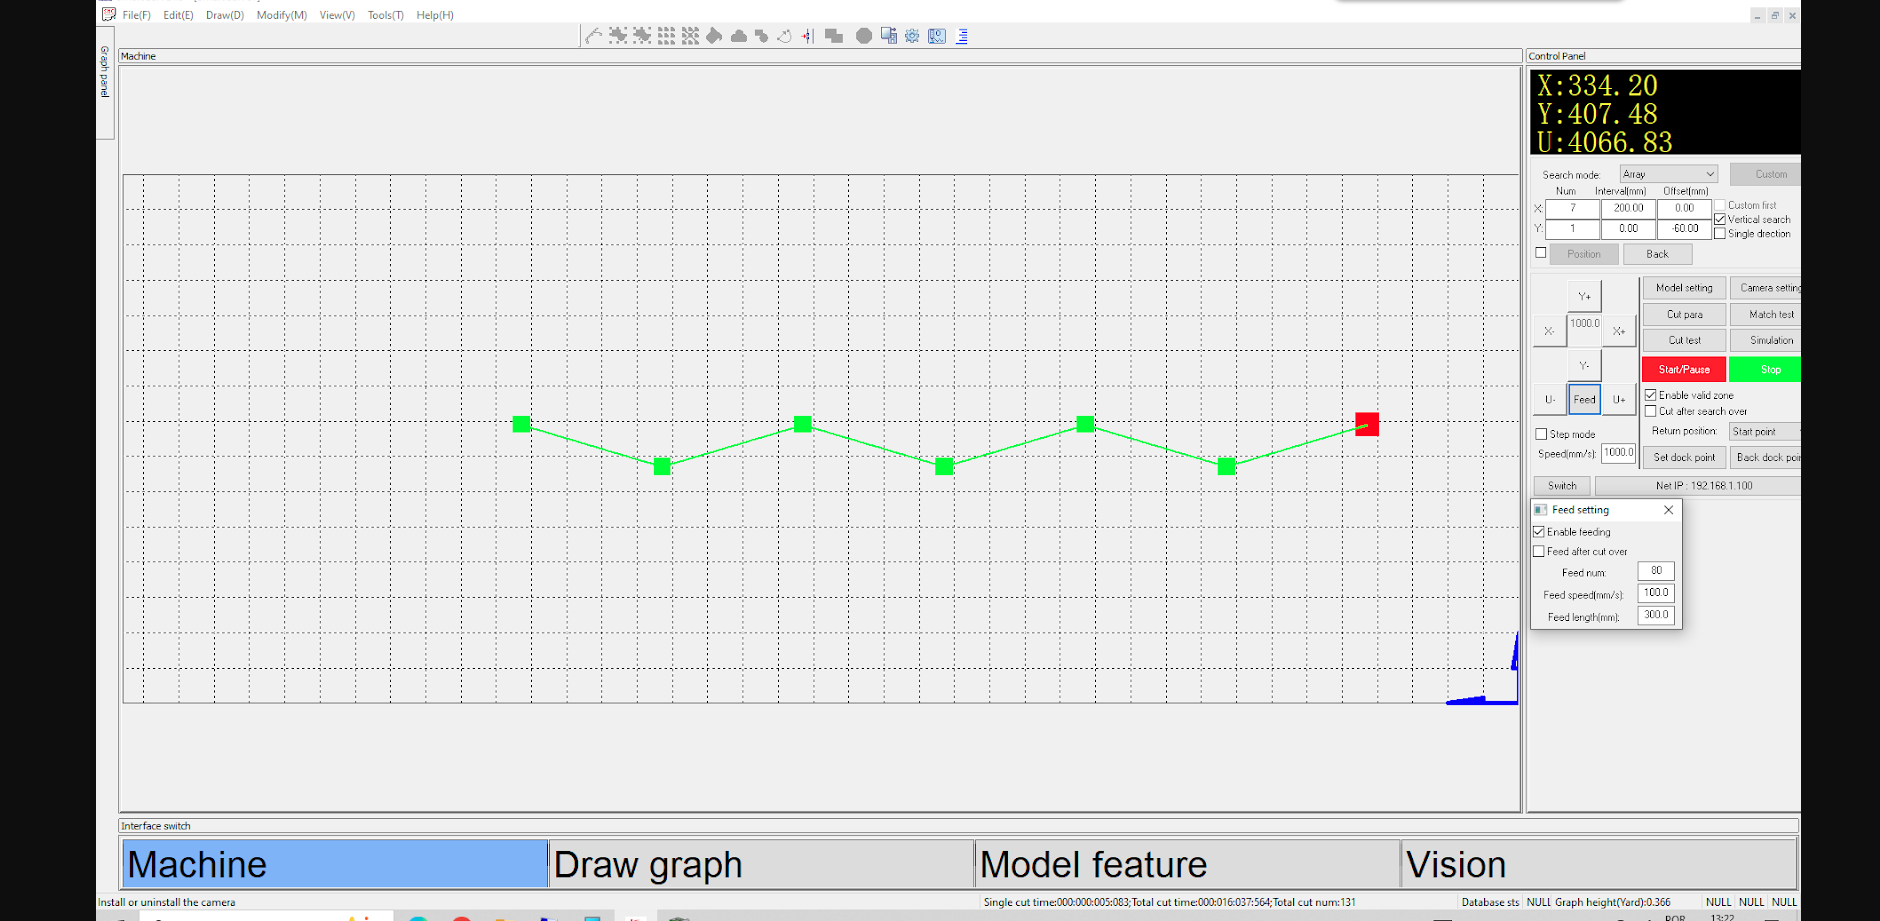start: (1641, 354, 1723, 383)
timer: (1655, 182, 1713, 238)
